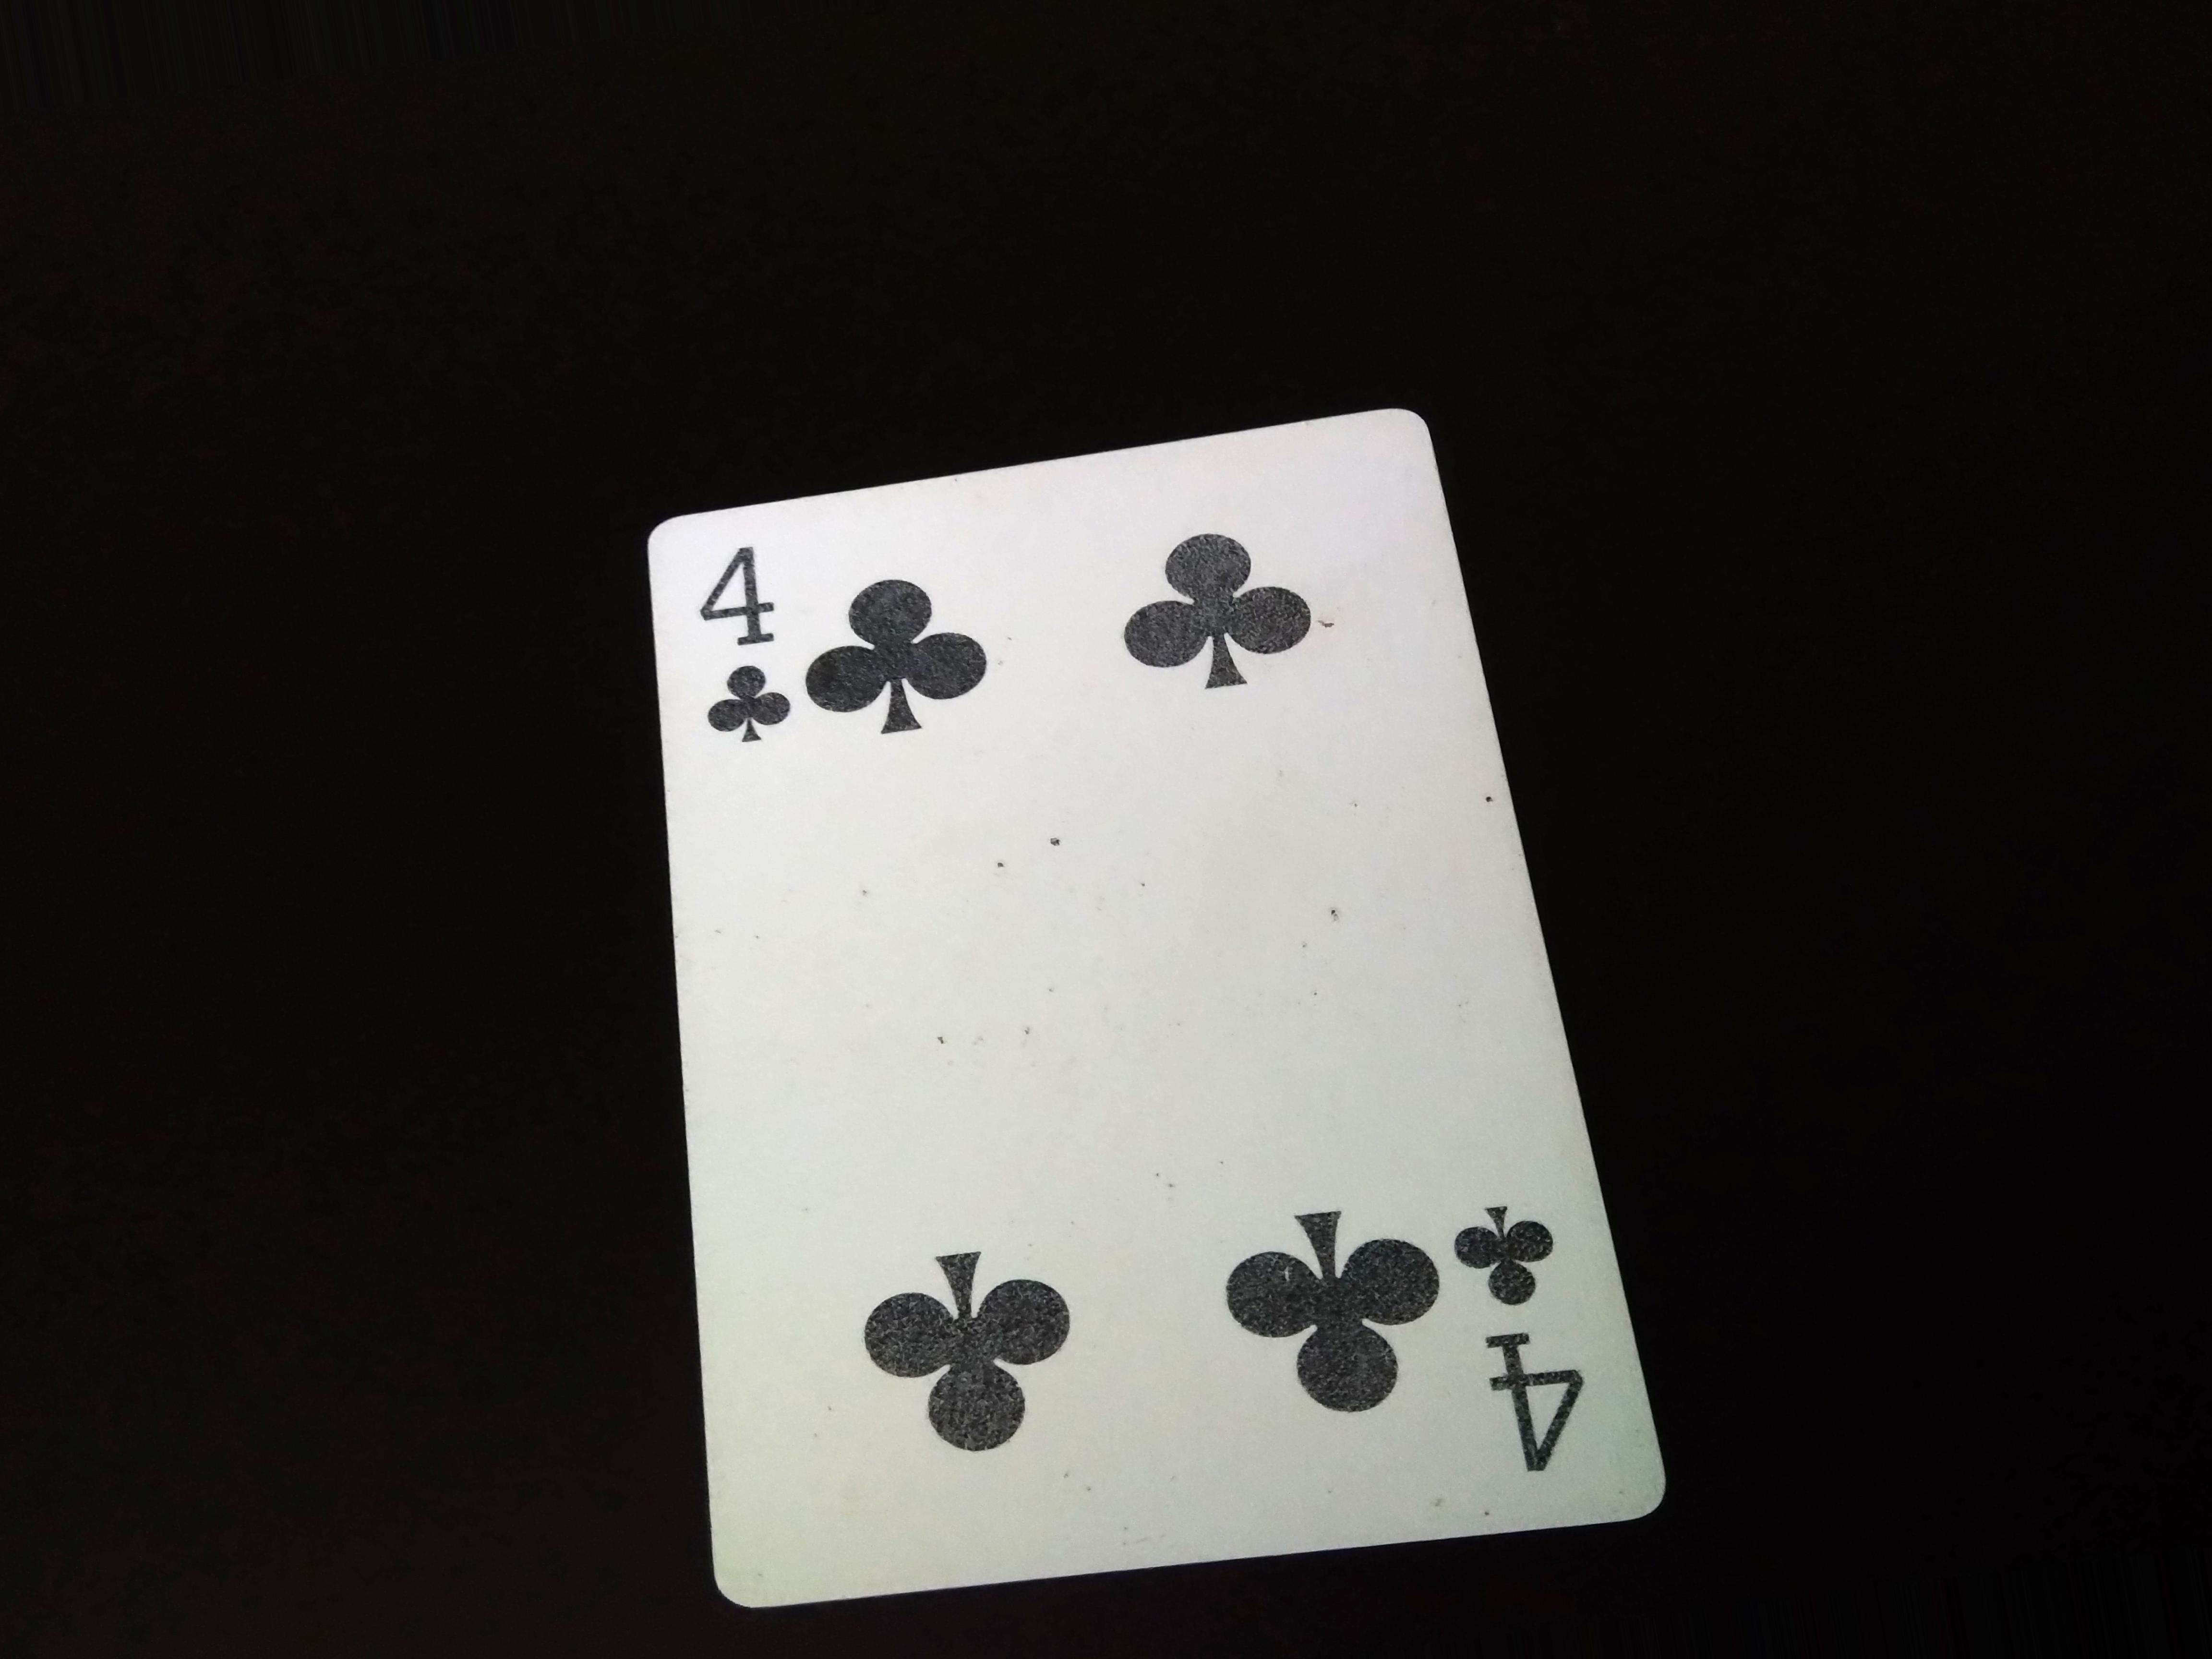4C: (1463, 1169, 1594, 1490)
